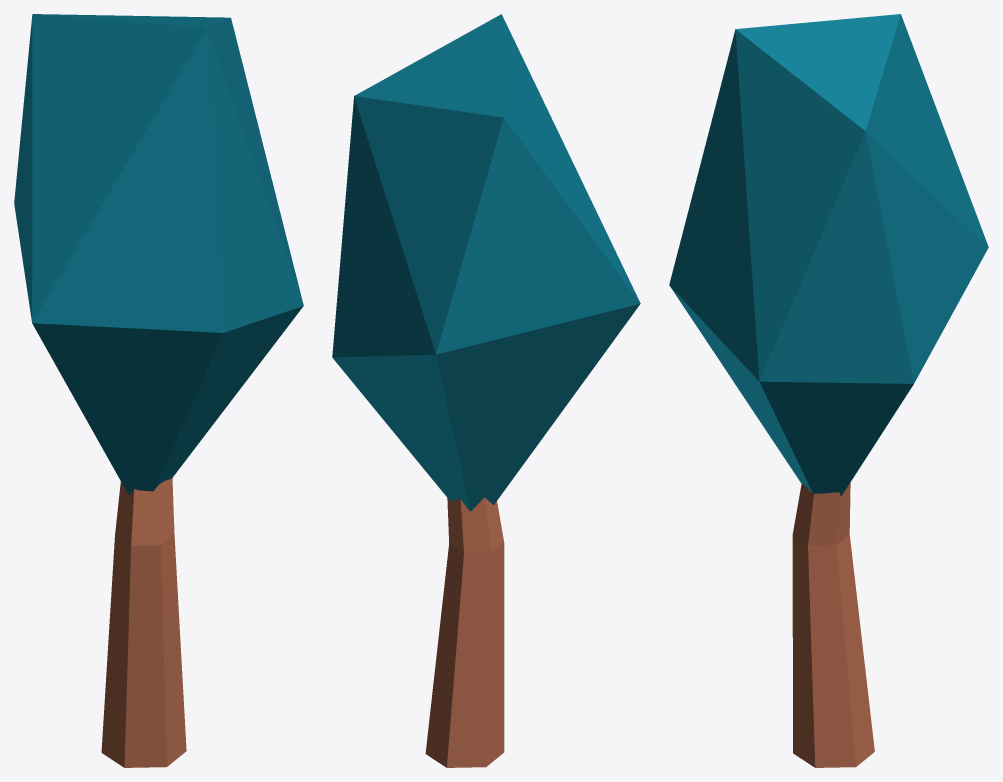
The model's file is Tree_08_summer_blue_vc.fbx.
3 views of the same model, side by side, from view 1: azimuth 30°, elevation 25°; view 2: azimuth 150°, elevation 25°; view 3: azimuth 270°, elevation 25° (orthographic). The views are drawn at different scales.
Parts seen in each view (by area): view 1: Tree_08_summer_blue_vc; view 2: Tree_08_summer_blue_vc; view 3: Tree_08_summer_blue_vc.
Part boxes in pixels (box(x1,y1,x2,y2)): Tree_08_summer_blue_vc: box(14, 14, 303, 767); Tree_08_summer_blue_vc: box(332, 14, 640, 767); Tree_08_summer_blue_vc: box(669, 14, 988, 767).
Size of the model in its own units: 93.3 by 249 by 98.84.
